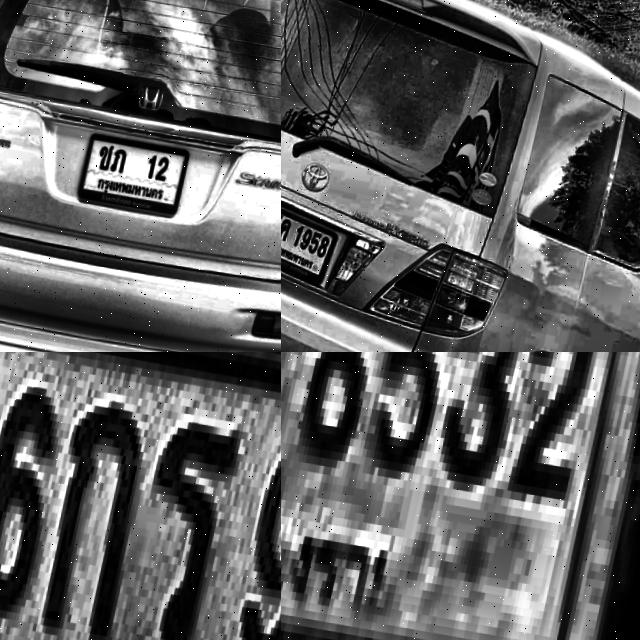license-plate: (281, 352, 640, 640), (0, 352, 281, 640), (79, 125, 201, 220), (281, 196, 353, 288)
